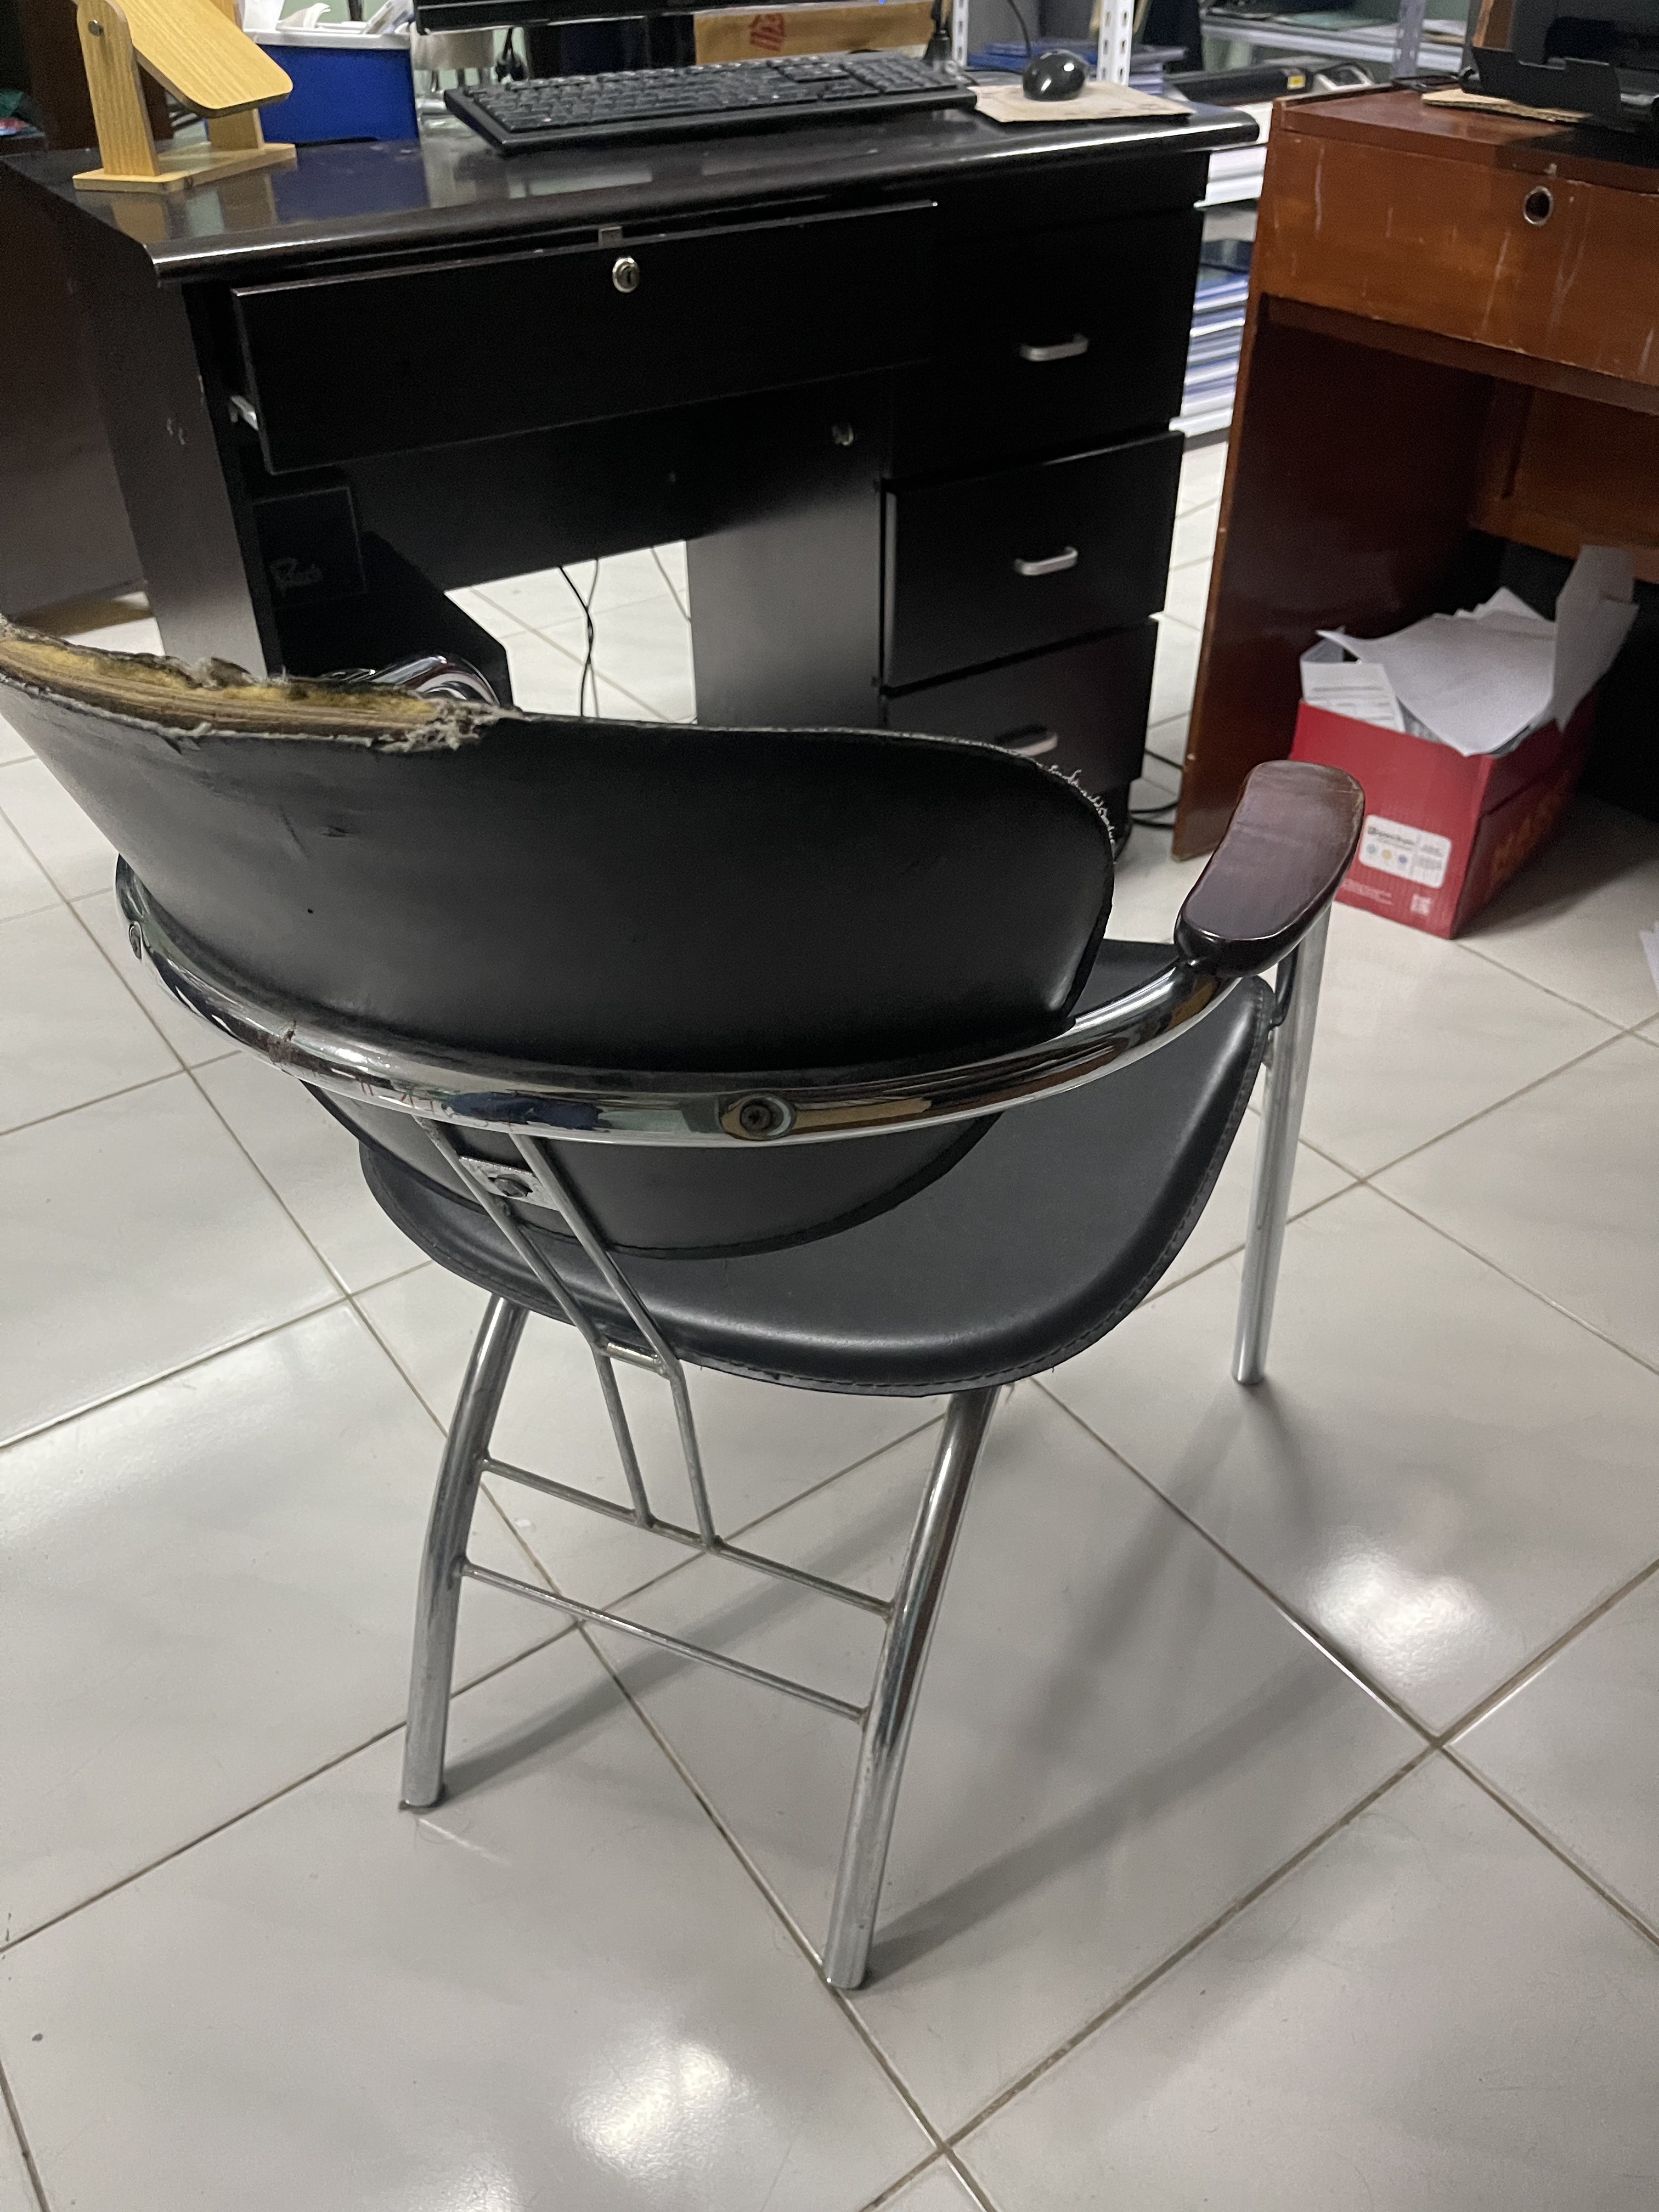chair1: (3, 596, 1368, 2024)
